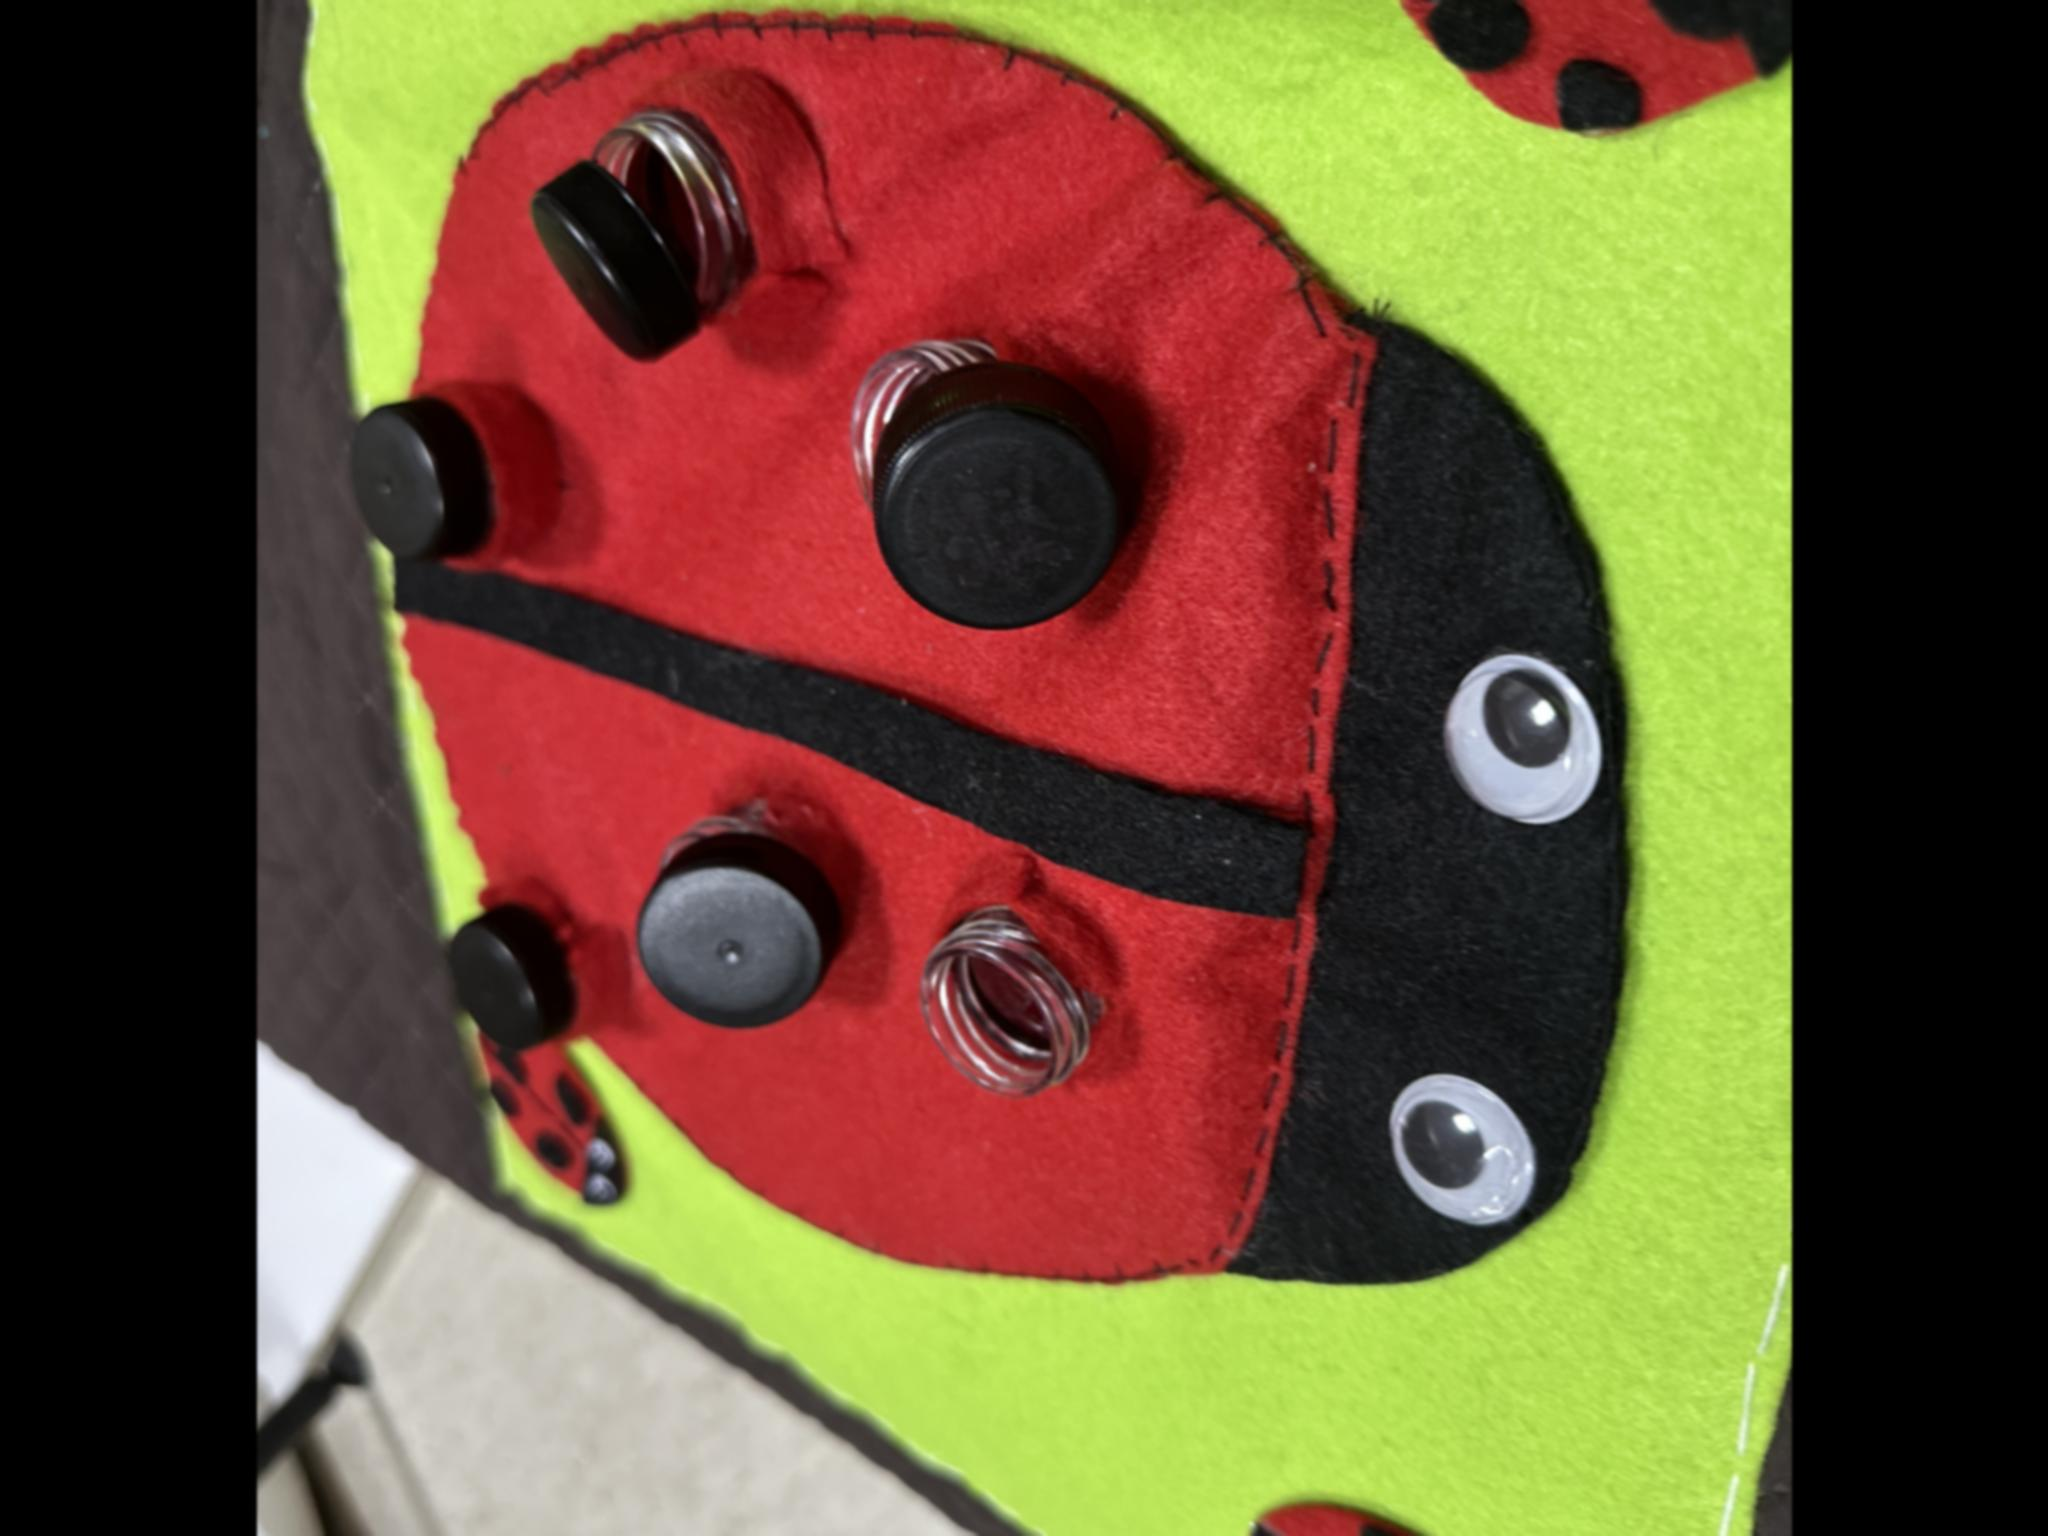cap_ng: (816, 302, 1153, 647), (522, 66, 839, 352), (622, 783, 858, 1042)
cap_ok: (323, 371, 569, 576), (431, 863, 614, 1073)
